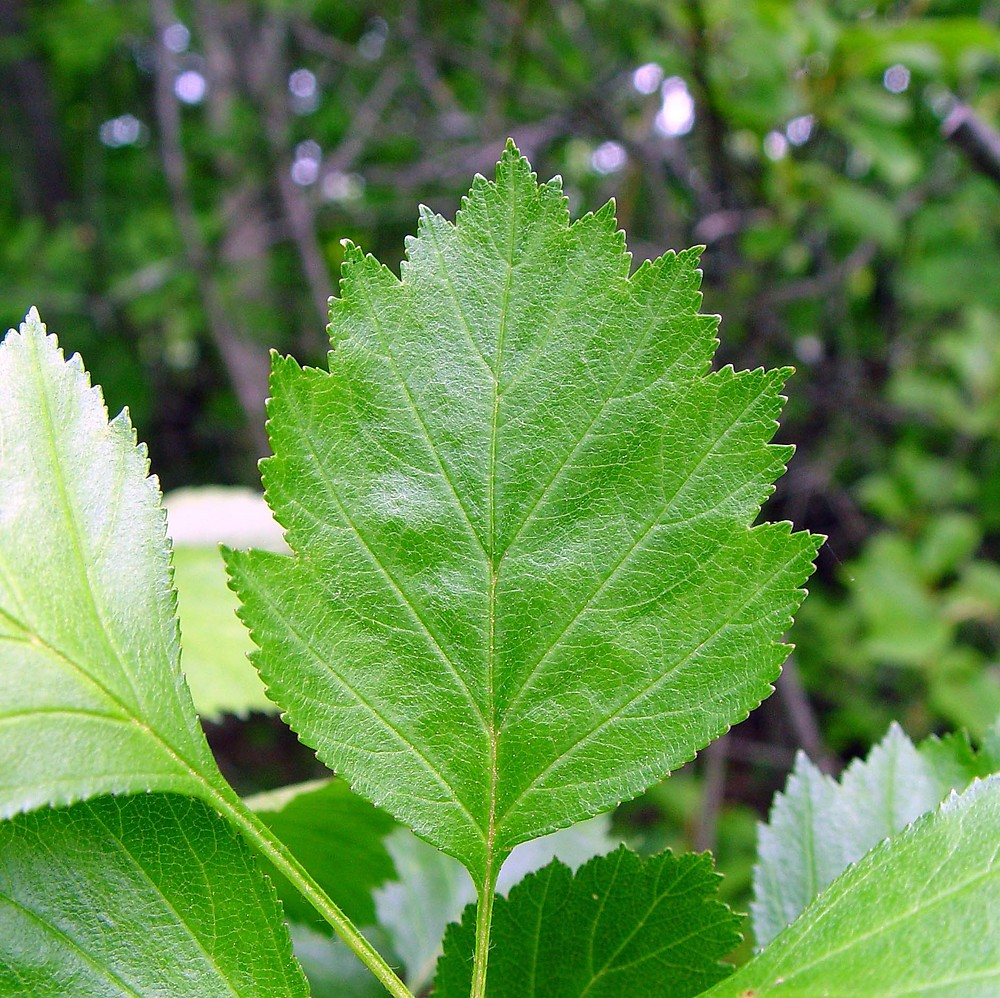healthy: (223, 202, 828, 873)
